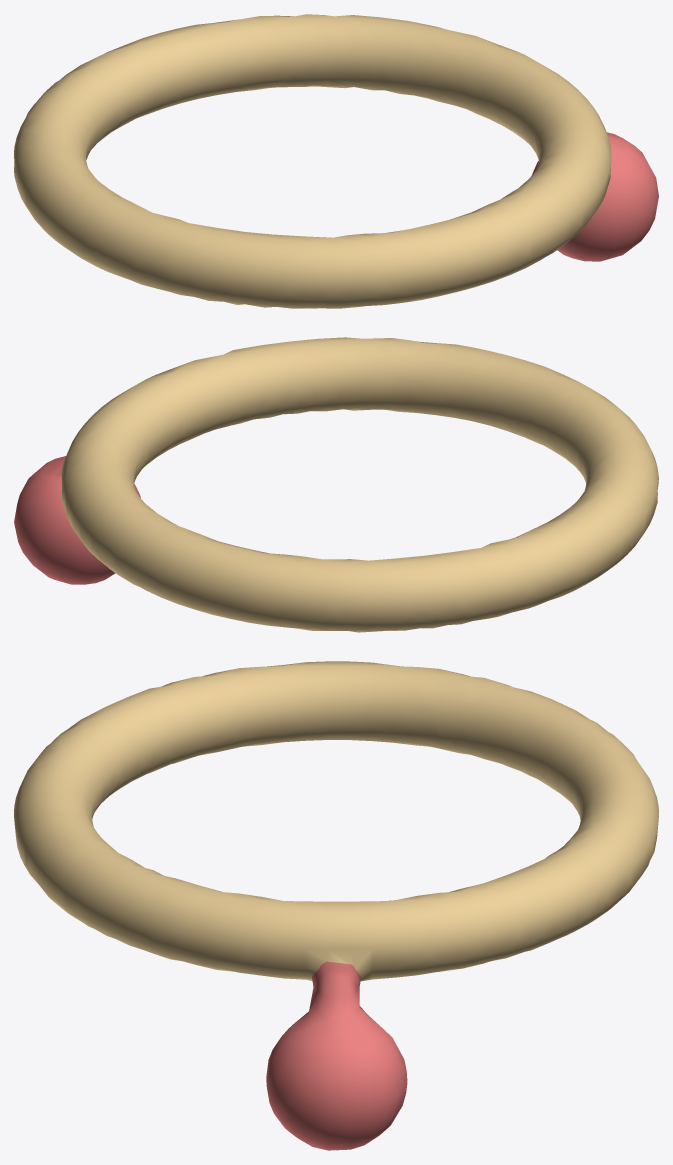
File: acc_bell.glb
3 views of the same model, one above another, from view 1: azimuth 30°, elevation 25°; view 2: azimuth 150°, elevation 25°; view 3: azimuth 270°, elevation 25° (orthographic). The views are drawn at different scales.
Visible parts, largest first — view 1: body; view 2: body; view 3: body.
Part boxes in pixels (x1=…): body: x1=14, y1=14, x2=658, y2=308; body: x1=14, y1=337, x2=658, y2=632; body: x1=14, y1=661, x2=658, y2=1150.
Bounding box in the file's own units: 0.7858 × 0.2458 × 0.6818.
